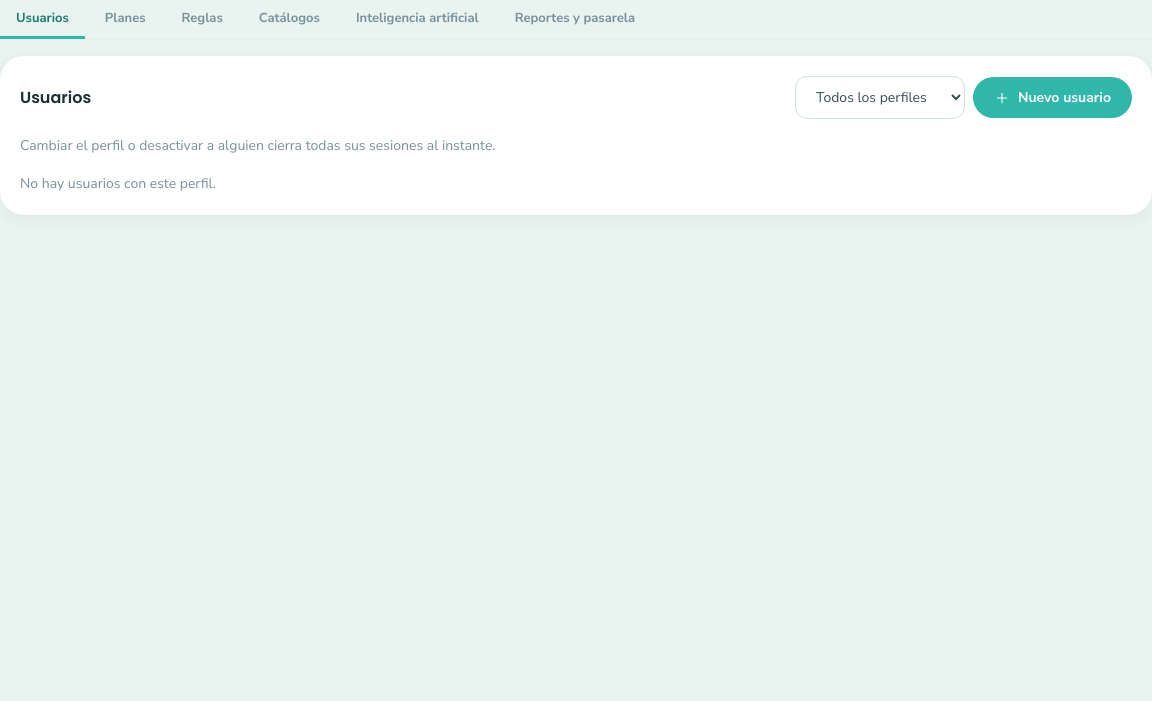
Scenario: AdminPage › una versión de prompt sólo se activa si pasa todos sus casos
Click the tab "Inteligencia artificial" at (417, 20), box left=340, top=0, right=495, bottom=39
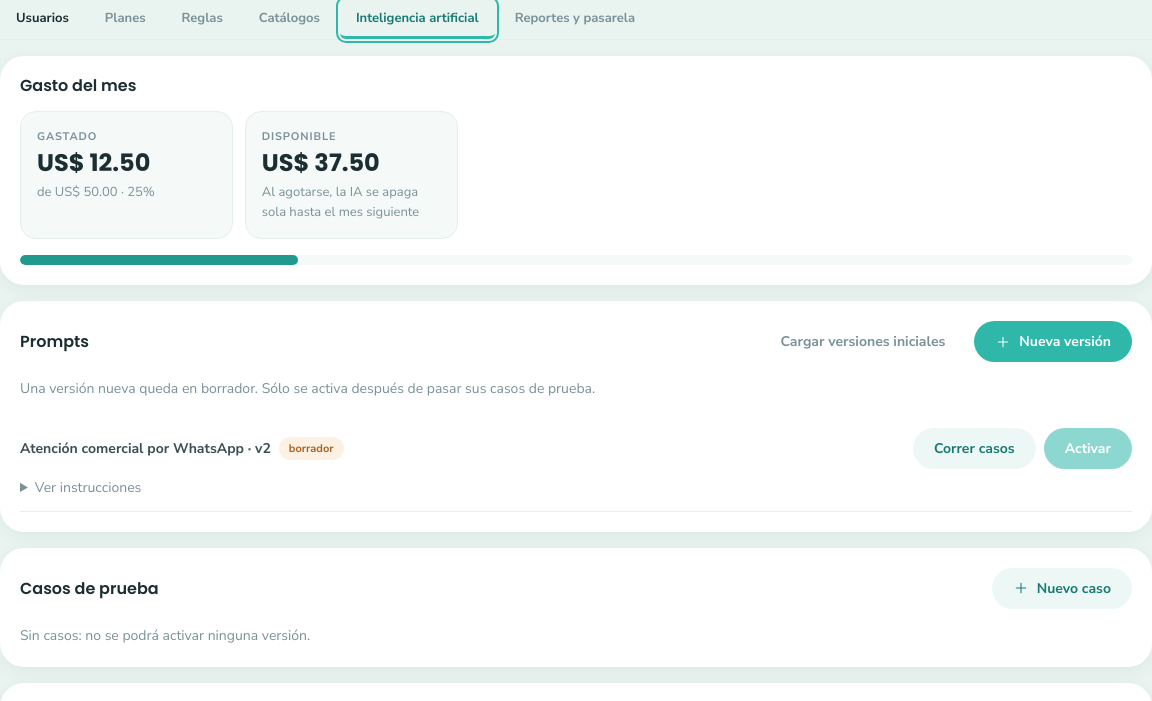
Expected: the text "US$ 12.50" is shown, left=37, top=146, right=150, bottom=179
Expected: the button "Activar" is disabled, left=1044, top=428, right=1132, bottom=469
Click the button "Correr casos" at (974, 449), box left=913, top=428, right=1036, bottom=469
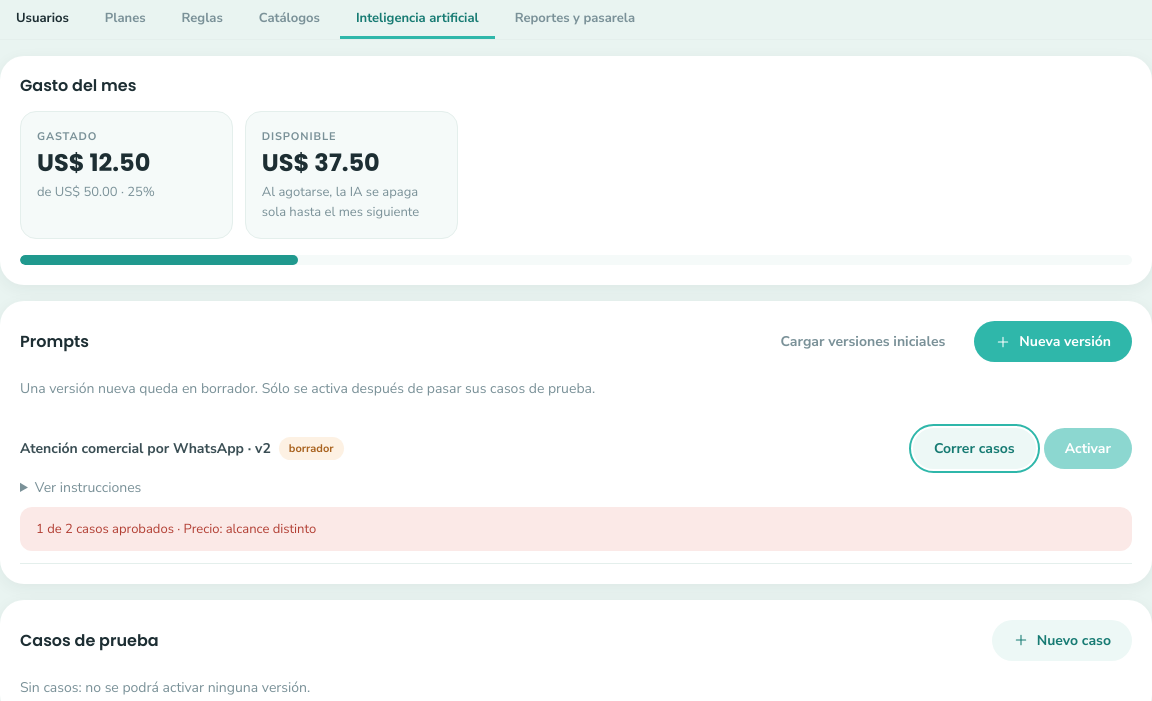
Expected: the button "Activar" is disabled, left=1044, top=428, right=1132, bottom=469
Expected: the text "1 de 2 casos aprobados · Precio: alcance distinto" is shown, left=20, top=507, right=1132, bottom=551
